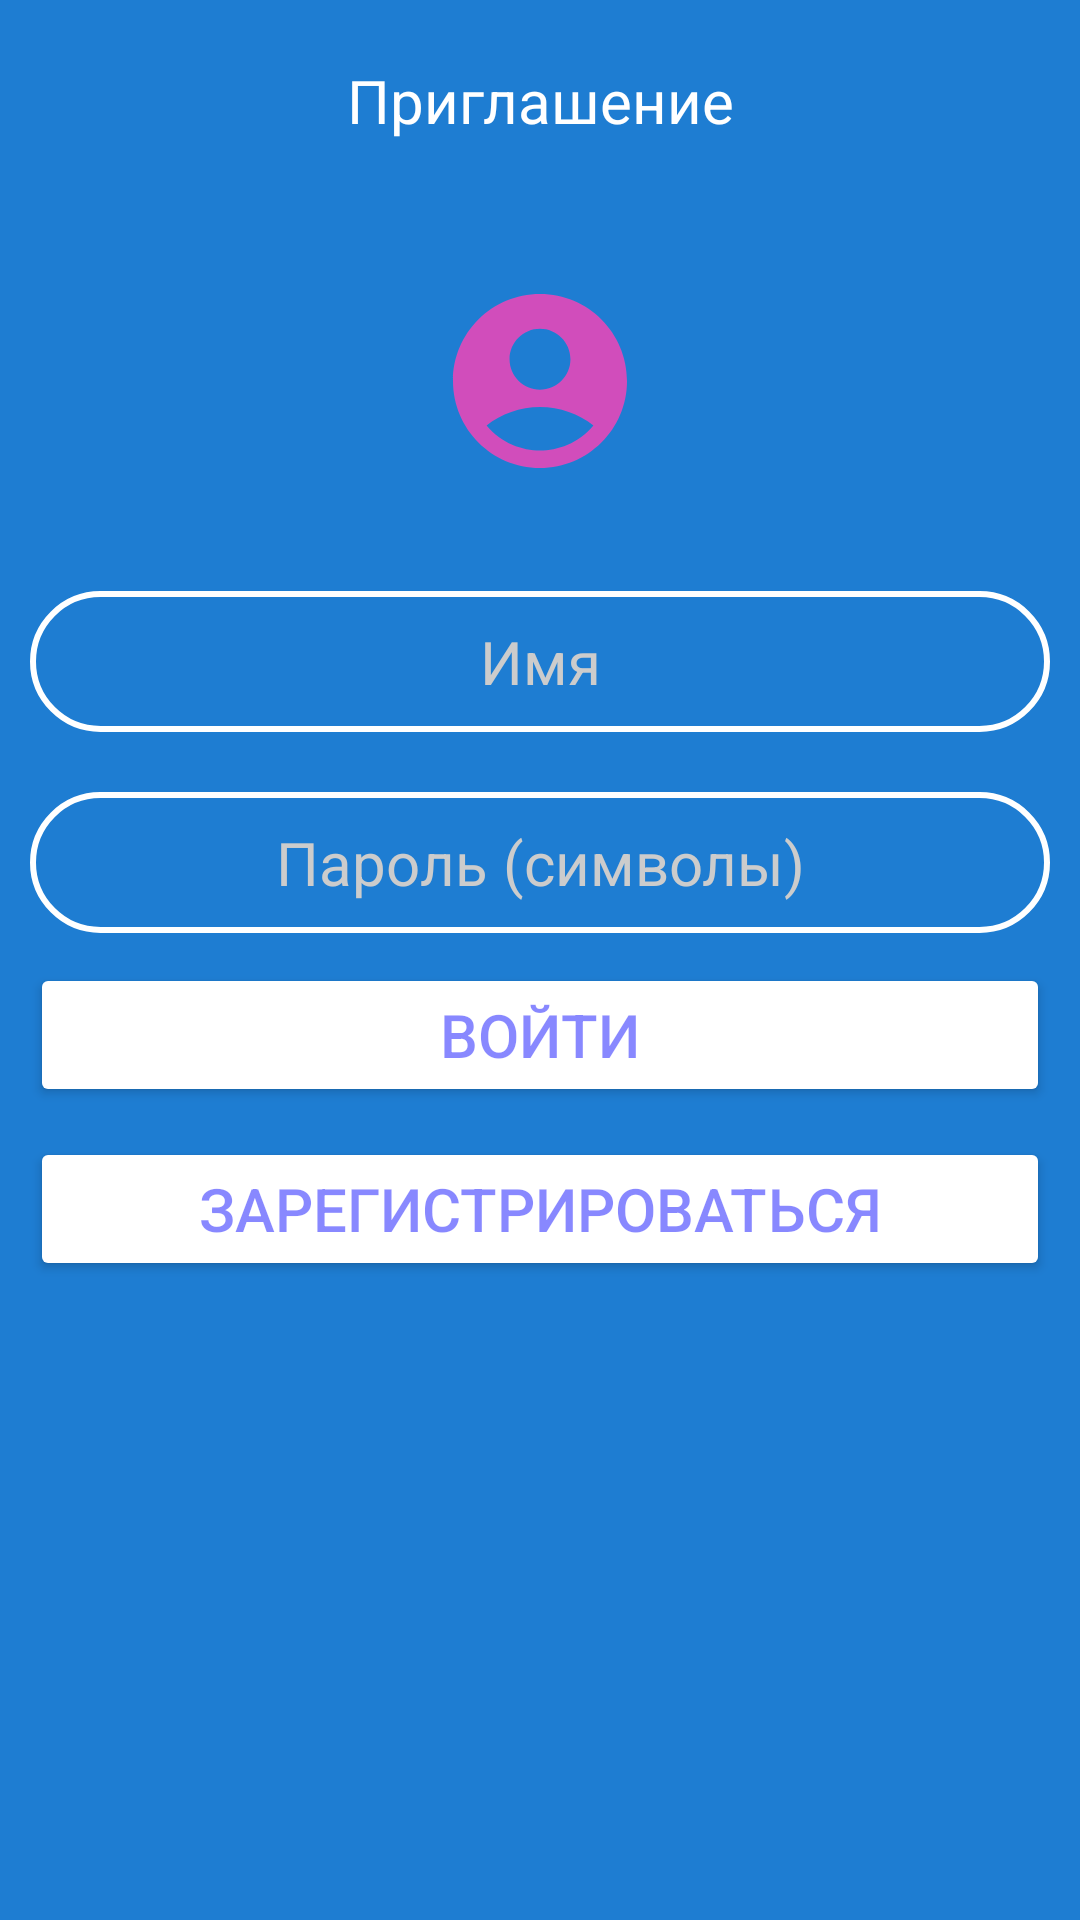

Icons on this 1080w x 1920h Android screen, each with its box as (x1, y1, x2, y2):
account: (453, 294, 627, 468)
